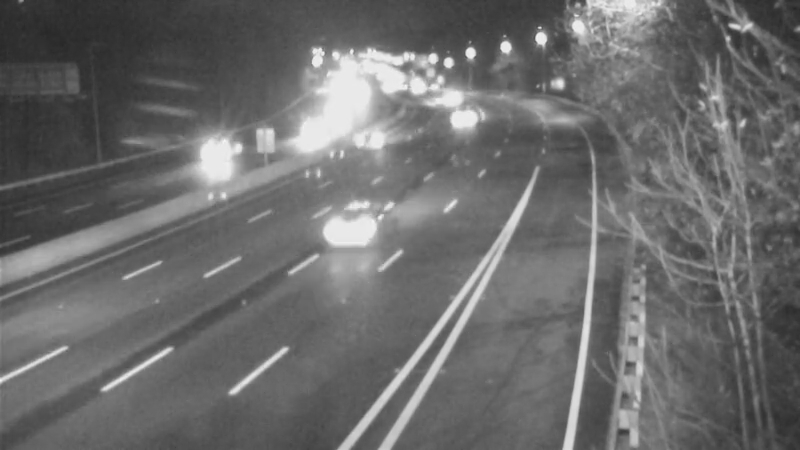vehicle: (299, 190, 379, 270), (385, 64, 435, 114), (423, 69, 473, 119), (407, 69, 457, 119), (441, 88, 491, 138), (345, 111, 395, 161), (188, 121, 238, 171), (287, 108, 337, 158)
